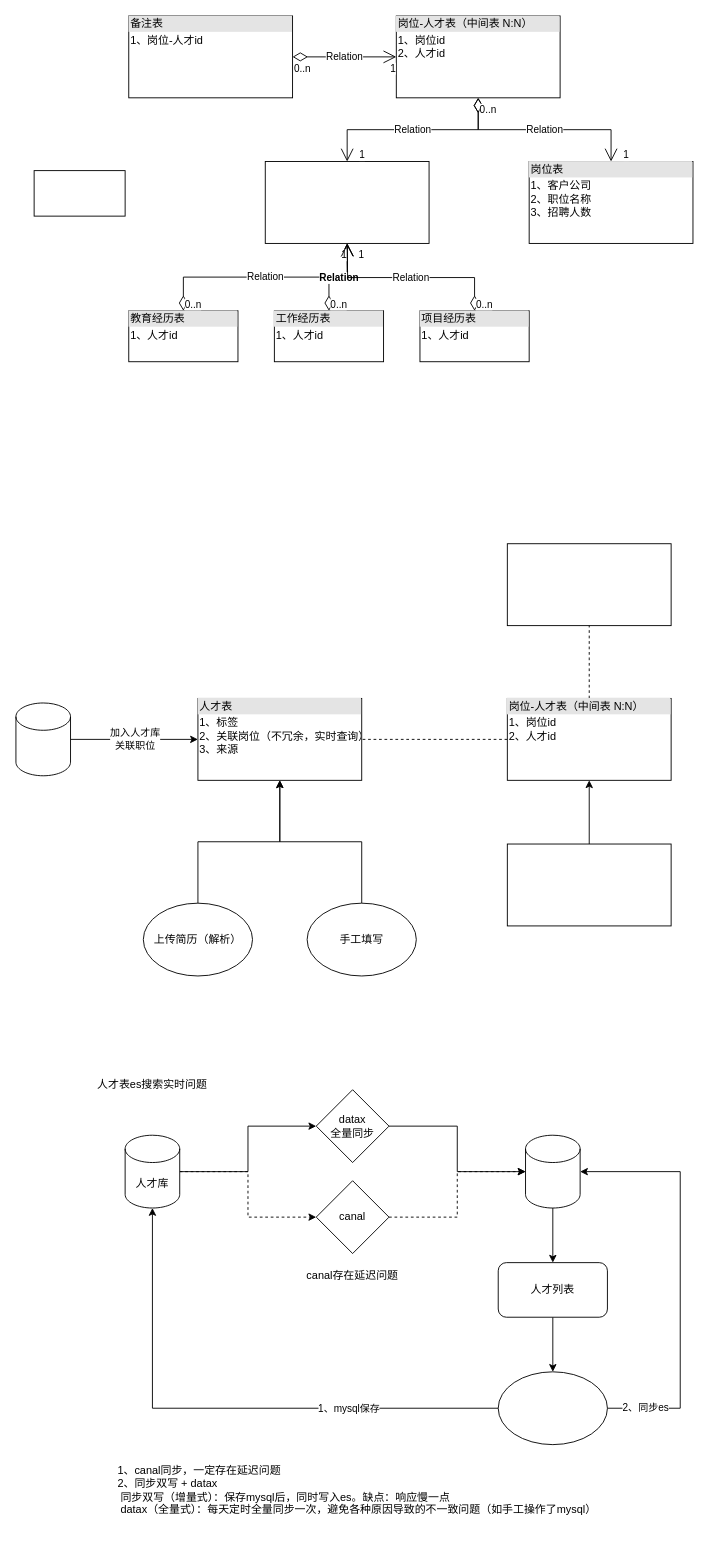
Image size: 723x1552. Some labels were removed from this diagram. Each missing label, with the centre of its shape:
"es搜索" belongs at point (552, 1171).
"hire 简历" belongs at point (43, 739).
"人才表 1、标签 2、关联岗位 3、来源" belongs at point (346, 202).
"备注表 1、岗位-人才id 2、备注" belongs at point (588, 884).
"岗位表 1、客户公司 2、职位名称 3、招聘人数（前端先不展示）" belongs at point (588, 584).
"标签表" belongs at point (79, 193).
"用户编辑" belongs at point (552, 1408).
